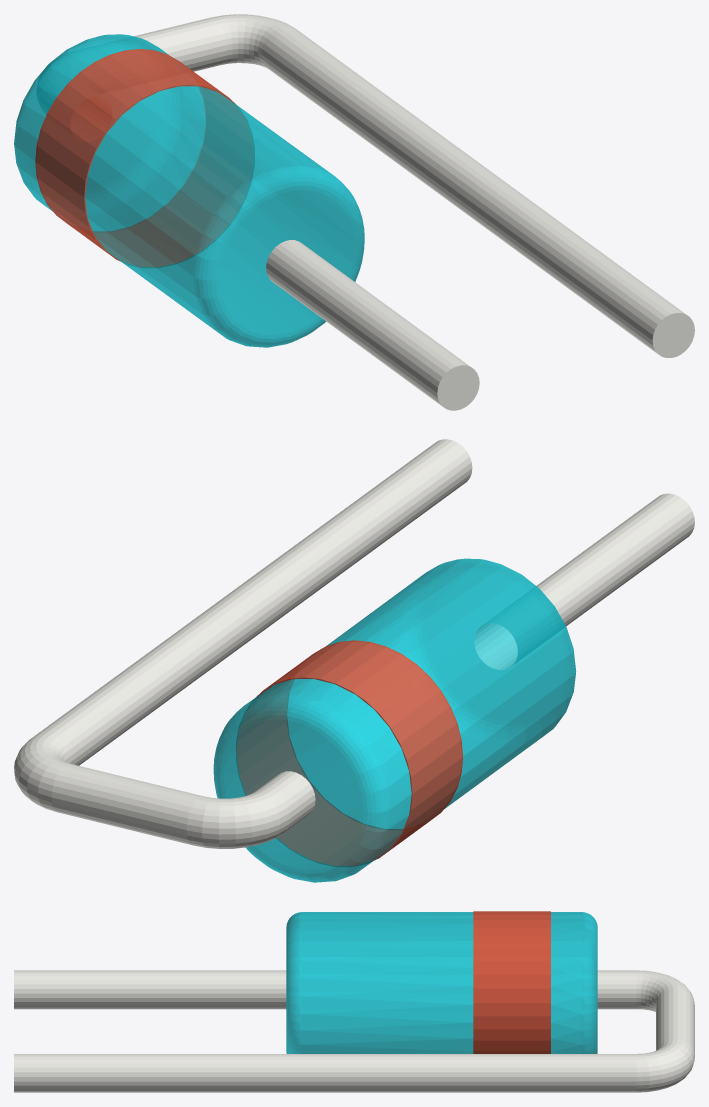
Rendered from D_DO-35_SOD27_P2.54mm_Vertical_KathodeUp.glb.
The picture shows the model from 3 angles, top to bottom: view 1: azimuth 30°, elevation 25°; view 2: azimuth 150°, elevation 25°; view 3: azimuth 270°, elevation 25°; orthographic projection. The views are drawn at different scales.
Parts seen in each view (by area): view 1: Shape_IndexedFaceSet.012, Shape_IndexedFaceSet, Shape_IndexedFaceSet.010, Shape_IndexedFaceSet.014, Shape_IndexedFaceSet.015, Shape_IndexedFaceSet.013, Shape_IndexedFaceSet.008, Shape_IndexedFaceSet.007, Shape_IndexedFaceSet.006, Shape_IndexedFaceSet.003, Shape_IndexedFaceSet.002, Shape_IndexedFaceSet.016 (+2 smaller); view 2: Shape_IndexedFaceSet.012, Shape_IndexedFaceSet, Shape_IndexedFaceSet.010, Shape_IndexedFaceSet.014, Shape_IndexedFaceSet.015, Shape_IndexedFaceSet.006, Shape_IndexedFaceSet.007, Shape_IndexedFaceSet.008, Shape_IndexedFaceSet.013, Shape_IndexedFaceSet.003, Shape_IndexedFaceSet.004, Shape_IndexedFaceSet.002 (+1 smaller); view 3: Shape_IndexedFaceSet.012, Shape_IndexedFaceSet, Shape_IndexedFaceSet.010, Shape_IndexedFaceSet.015, Shape_IndexedFaceSet.008, Shape_IndexedFaceSet.002, Shape_IndexedFaceSet.007, Shape_IndexedFaceSet.013, Shape_IndexedFaceSet.003, Shape_IndexedFaceSet.005, Shape_IndexedFaceSet.004.
Boxes of the visible parts, left/top/right/bottom form: Shape_IndexedFaceSet.012: left=85, top=86, right=361, bottom=345; Shape_IndexedFaceSet: left=261, top=26, right=685, bottom=353; Shape_IndexedFaceSet.010: left=35, top=49, right=254, bottom=266; Shape_IndexedFaceSet.014: left=219, top=190, right=354, bottom=334; Shape_IndexedFaceSet.015: left=266, top=240, right=471, bottom=406; Shape_IndexedFaceSet.013: left=192, top=164, right=364, bottom=347; Shape_IndexedFaceSet.008: left=16, top=35, right=205, bottom=230; Shape_IndexedFaceSet.007: left=14, top=34, right=185, bottom=216; Shape_IndexedFaceSet.006: left=24, top=47, right=158, bottom=190; Shape_IndexedFaceSet.003: left=83, top=17, right=227, bottom=71; Shape_IndexedFaceSet.002: left=211, top=14, right=293, bottom=68; Shape_IndexedFaceSet.016: left=437, top=365, right=479, bottom=410; Shape_IndexedFaceSet.012: left=287, top=560, right=573, bottom=828; Shape_IndexedFaceSet: left=33, top=439, right=472, bottom=765; Shape_IndexedFaceSet.010: left=236, top=640, right=462, bottom=865; Shape_IndexedFaceSet.014: left=426, top=572, right=565, bottom=720; Shape_IndexedFaceSet.015: left=474, top=493, right=694, bottom=669; Shape_IndexedFaceSet.006: left=223, top=720, right=363, bottom=869; Shape_IndexedFaceSet.007: left=213, top=693, right=391, bottom=882; Shape_IndexedFaceSet.008: left=217, top=679, right=411, bottom=880; Shape_IndexedFaceSet.013: left=399, top=558, right=576, bottom=747; Shape_IndexedFaceSet.003: left=51, top=763, right=203, bottom=844; Shape_IndexedFaceSet.004: left=186, top=790, right=290, bottom=848; Shape_IndexedFaceSet.002: left=14, top=735, right=69, bottom=811; Shape_IndexedFaceSet.012: left=302, top=912, right=473, bottom=1053; Shape_IndexedFaceSet: left=14, top=1054, right=636, bottom=1092; Shape_IndexedFaceSet.010: left=473, top=911, right=550, bottom=1053; Shape_IndexedFaceSet.015: left=14, top=970, right=286, bottom=1009; Shape_IndexedFaceSet.008: left=551, top=912, right=581, bottom=1053; Shape_IndexedFaceSet.002: left=636, top=1039, right=694, bottom=1092; Shape_IndexedFaceSet.007: left=582, top=912, right=597, bottom=1053; Shape_IndexedFaceSet.013: left=286, top=912, right=301, bottom=1053; Shape_IndexedFaceSet.003: left=656, top=988, right=694, bottom=1055; Shape_IndexedFaceSet.005: left=597, top=970, right=636, bottom=1009; Shape_IndexedFaceSet.004: left=636, top=970, right=693, bottom=1011.
Bounding box in the file's own units: 1.5 × 0.7945 × 3.44.
